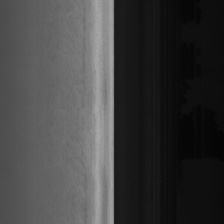silk_spot: (62, 127, 93, 188)
